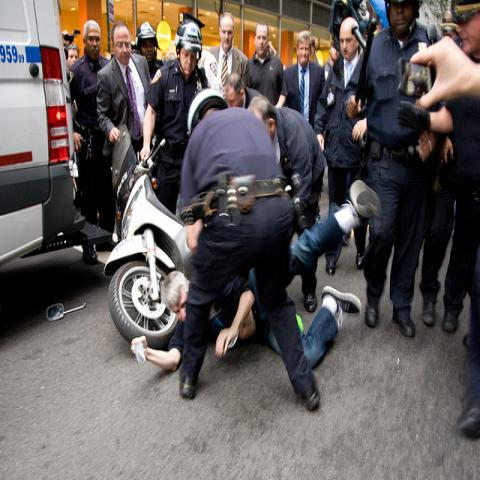car: (0, 3, 81, 269)
motorcycle: (102, 140, 184, 349)
